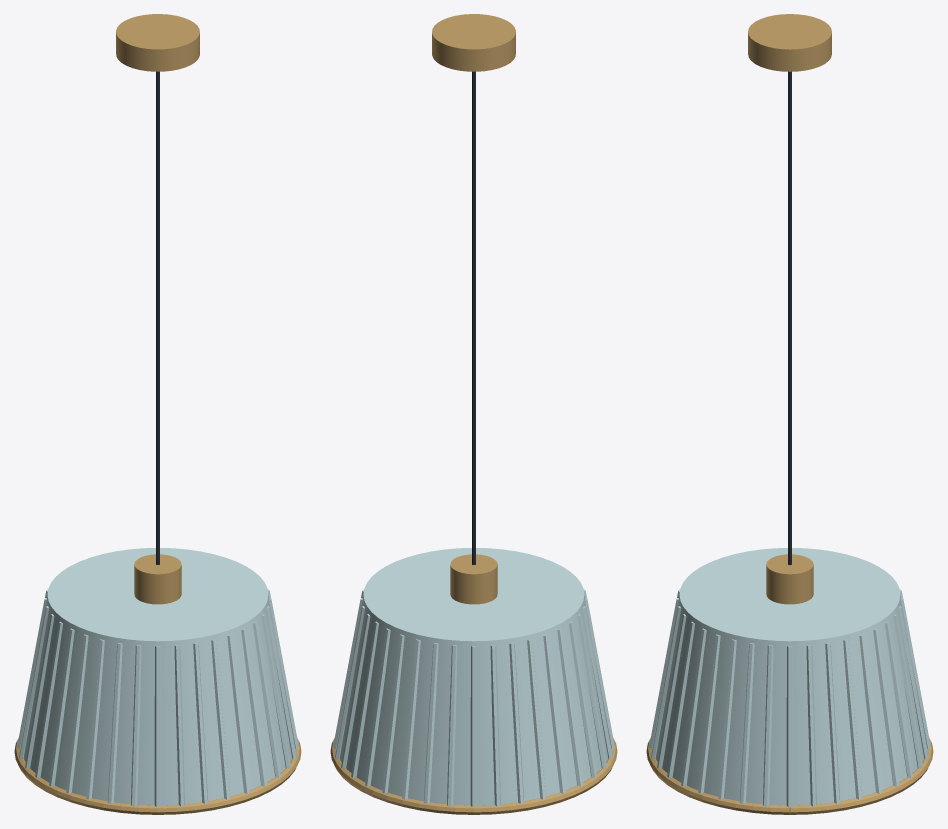
Rendered from kitchen-pendant-fluted.glb.
3 renders of one model, left to right at view 1: azimuth 30°, elevation 25°; view 2: azimuth 150°, elevation 25°; view 3: azimuth 270°, elevation 25°, orthographic.
Parts seen in each view (by area): view 1: catalog_surface_UVMap, catalog_surface_RealismUV; view 2: catalog_surface_UVMap, catalog_surface_RealismUV; view 3: catalog_surface_UVMap, catalog_surface_RealismUV.
Boxes of the visible parts, x1,y1,x2,y2 form: catalog_surface_UVMap: [17, 548, 298, 806]; catalog_surface_RealismUV: [14, 14, 301, 814]; catalog_surface_UVMap: [333, 548, 614, 806]; catalog_surface_RealismUV: [330, 14, 617, 814]; catalog_surface_UVMap: [649, 548, 930, 807]; catalog_surface_RealismUV: [646, 14, 933, 814].
Size of the model in its own units: 0.28 by 0.78 by 0.28.
